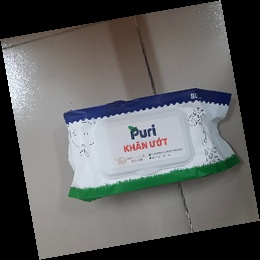Puri Trang: (62, 85, 244, 203)
